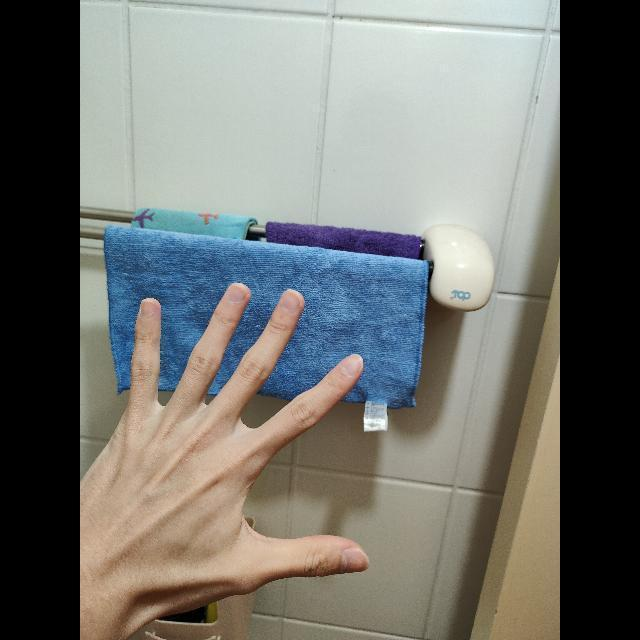bare_hand: (81, 284, 373, 633)
